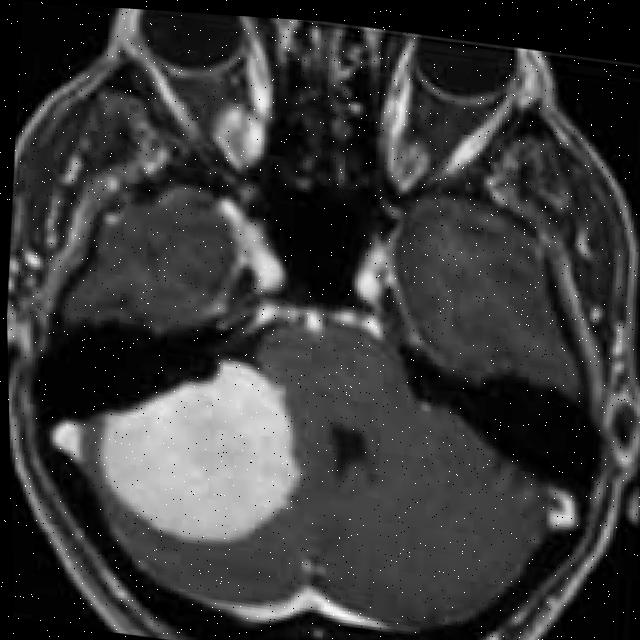Meningioma: (92, 340, 312, 556)
